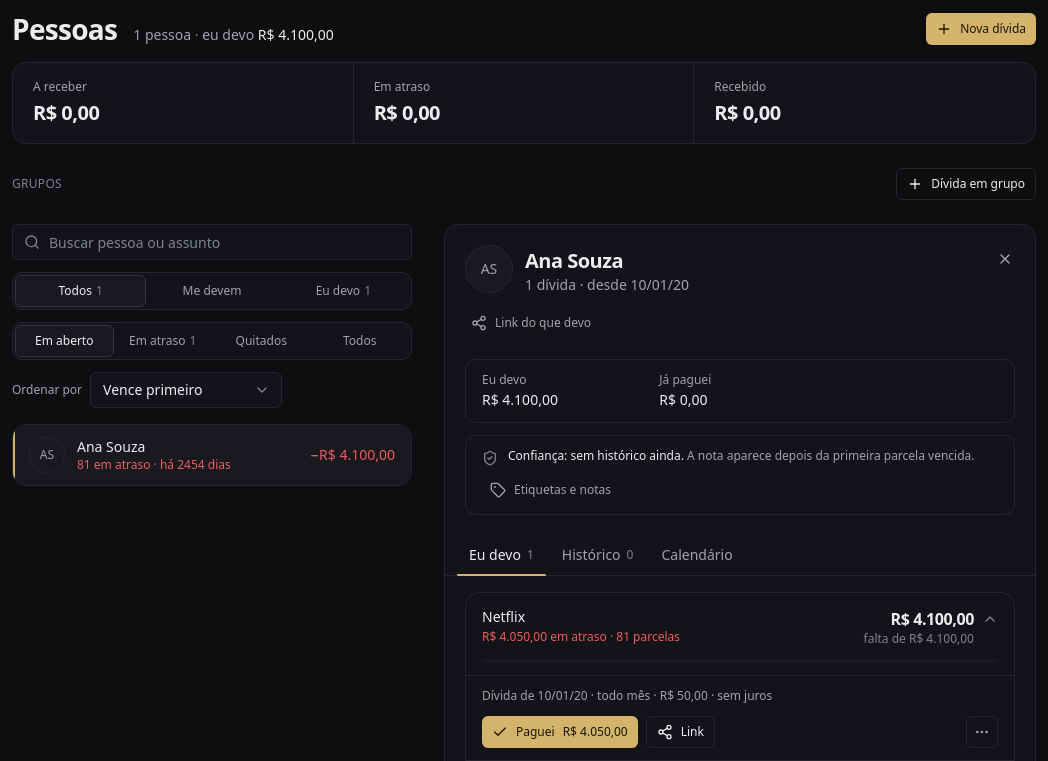
Scenario: Pessoas: renegociar e mais prazo › dívida recorrente não oferece renegociar
Click the button named "Mais ações".
click(982, 732)  # box [966,716,998,748]
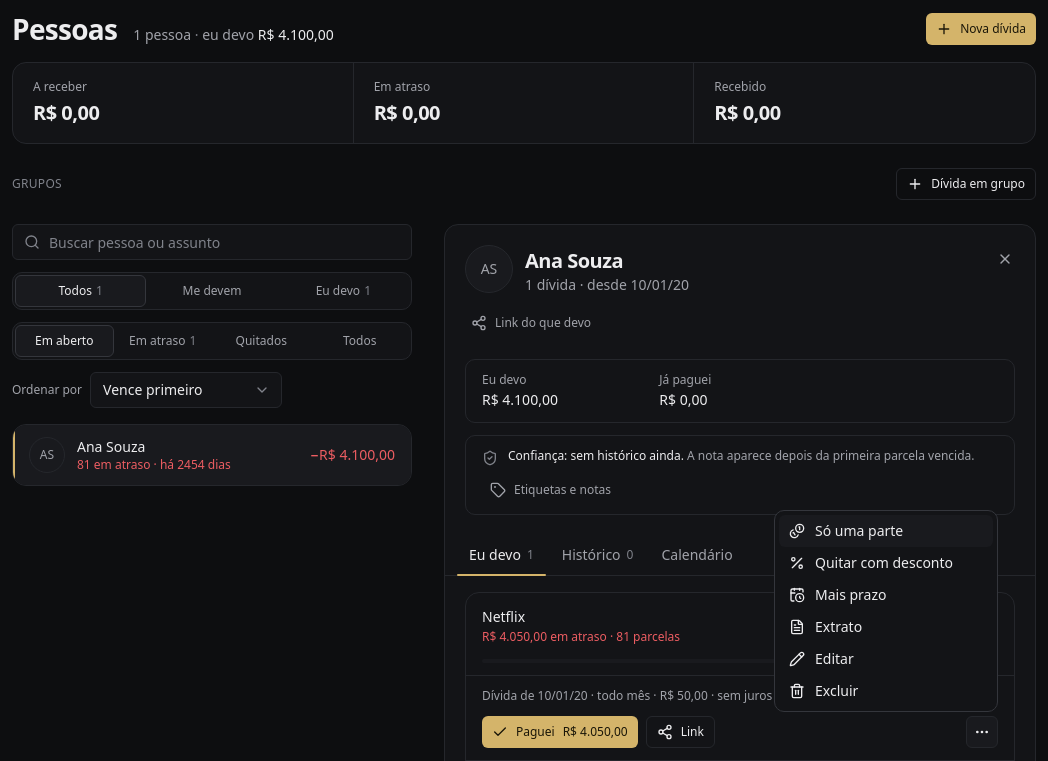
Check: the text "Mais prazo" is shown, box [815,585,886,604]
